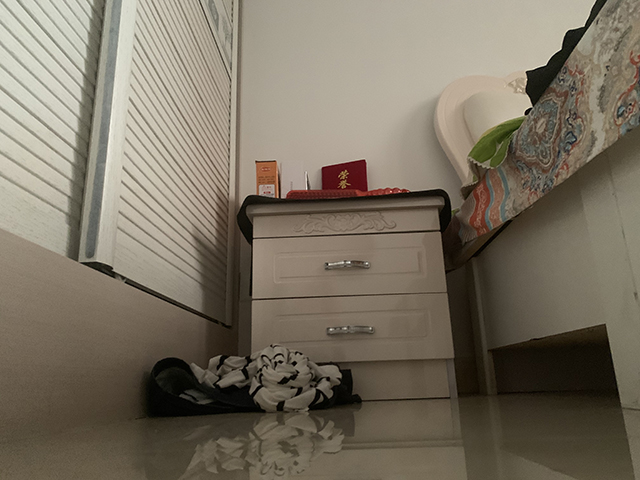bed: (431, 1, 640, 410)
cabinet: (1, 1, 243, 443), (244, 195, 458, 403)
